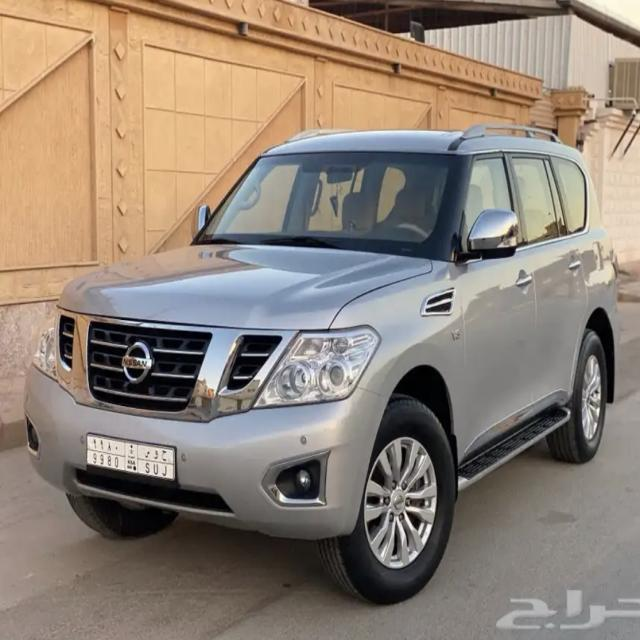license_plate: (86, 428, 180, 489)
